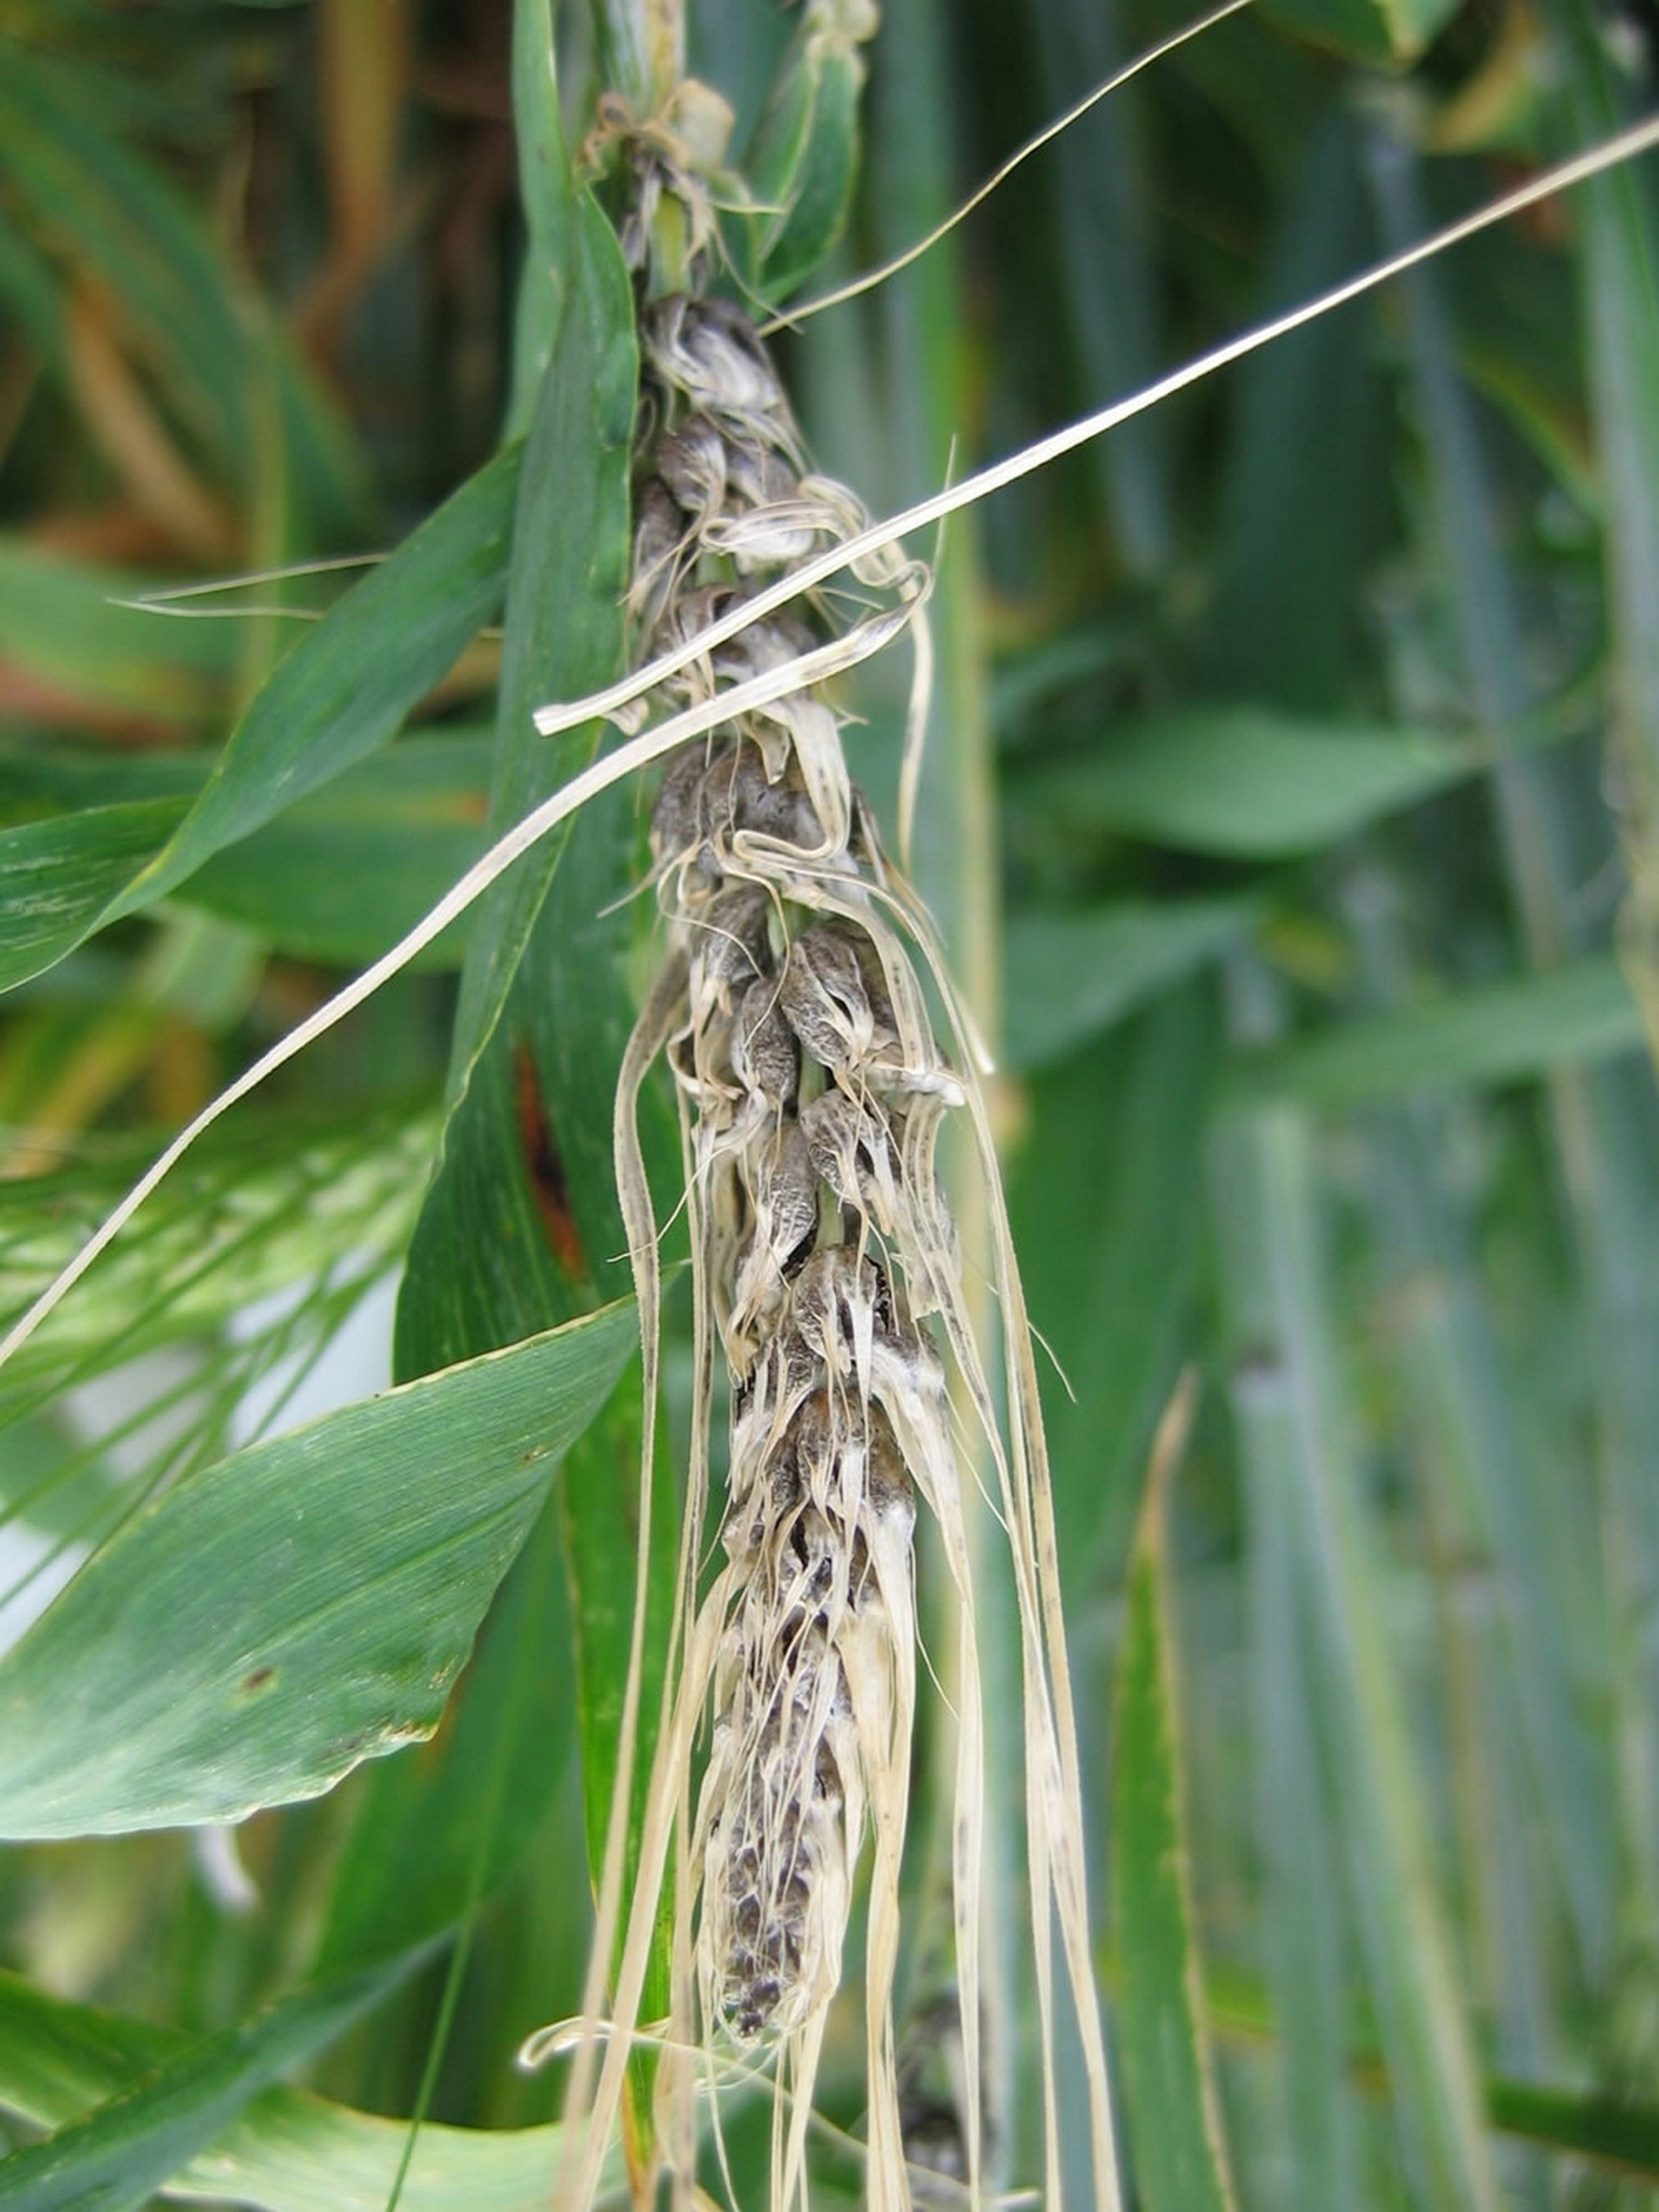Wheat Loose Smut: (579, 266, 1011, 2054)
